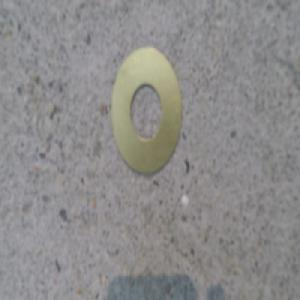Washer: (107, 47, 183, 180)
